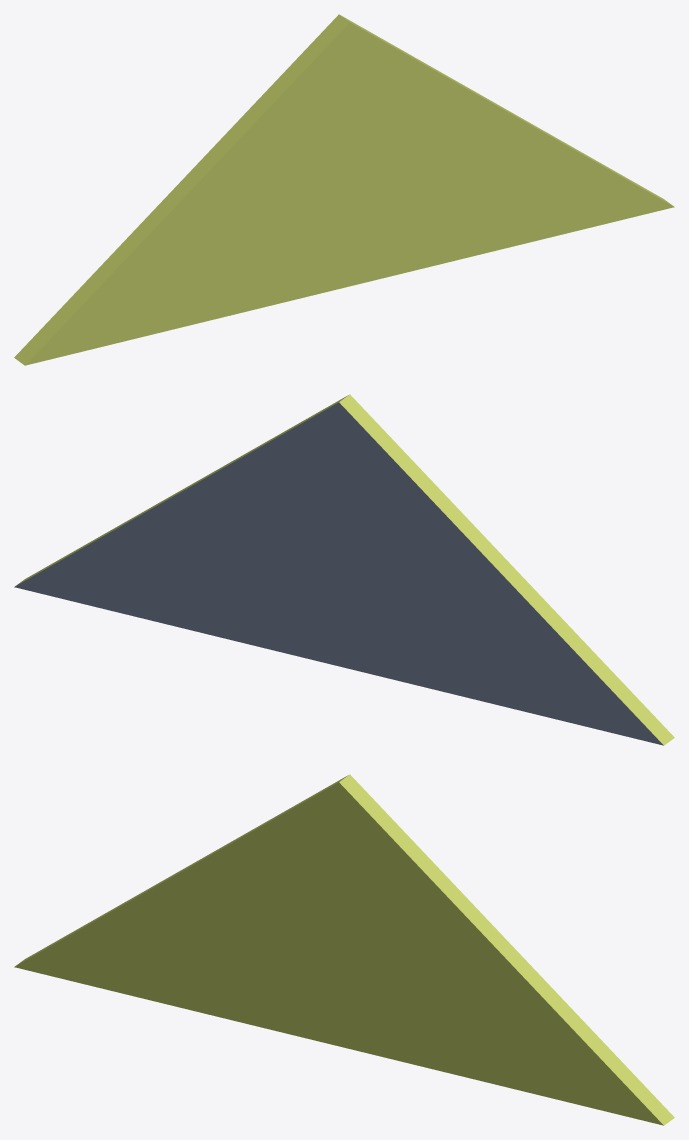
Rendered from Wall3_C6_16.fbx.
3 renders of one model, top to bottom at view 1: azimuth 30°, elevation 25°; view 2: azimuth 150°, elevation 25°; view 3: azimuth 330°, elevation 25°, orthographic.
Visible parts, largest first — view 1: Wall3_C6_16; view 2: Wall3_C6_16; view 3: Wall3_C6_16.
Boxes of the visible parts, bbox=[...] form: Wall3_C6_16: bbox=[14, 14, 674, 365]; Wall3_C6_16: bbox=[14, 394, 674, 745]; Wall3_C6_16: bbox=[14, 774, 674, 1125].
Size of the model in its own units: 515 by 200 by 15.
